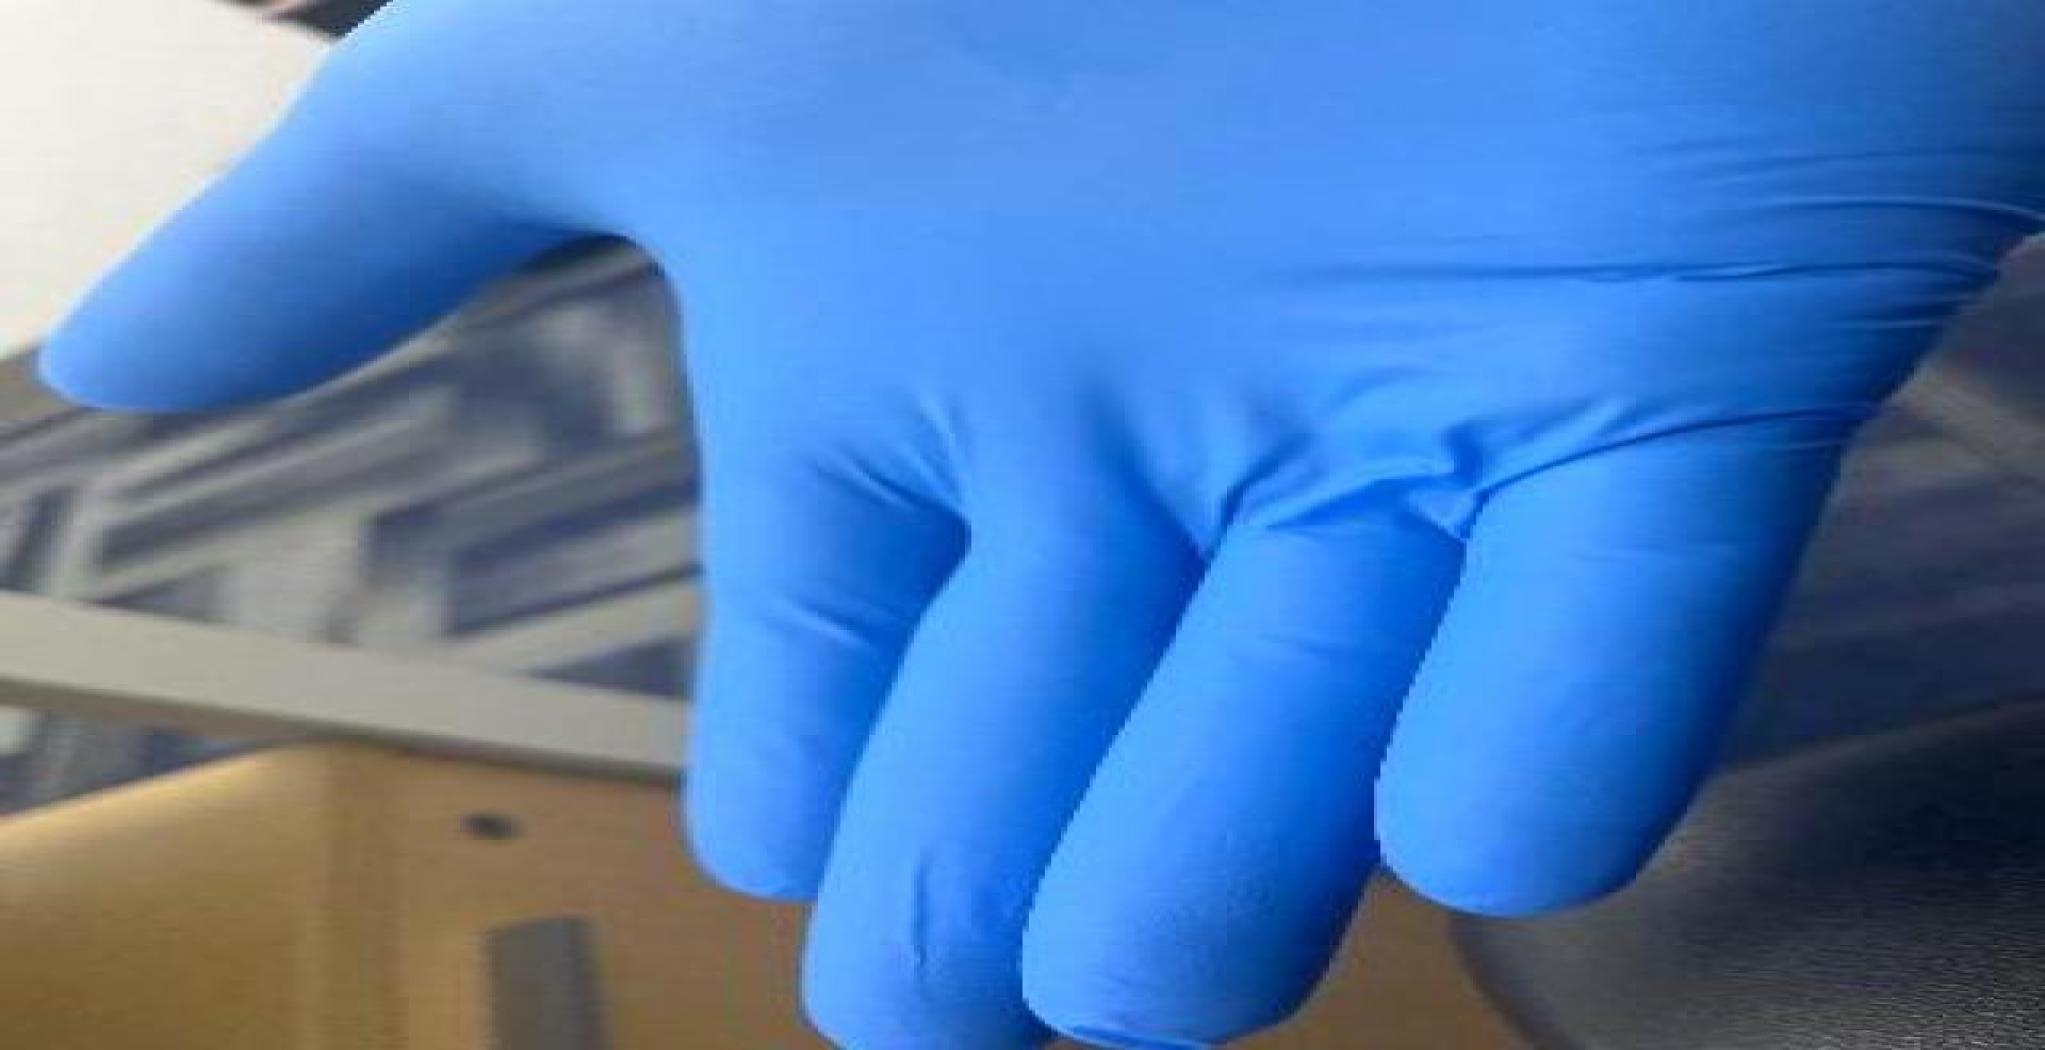gloved: (29, 0, 2042, 1049)
